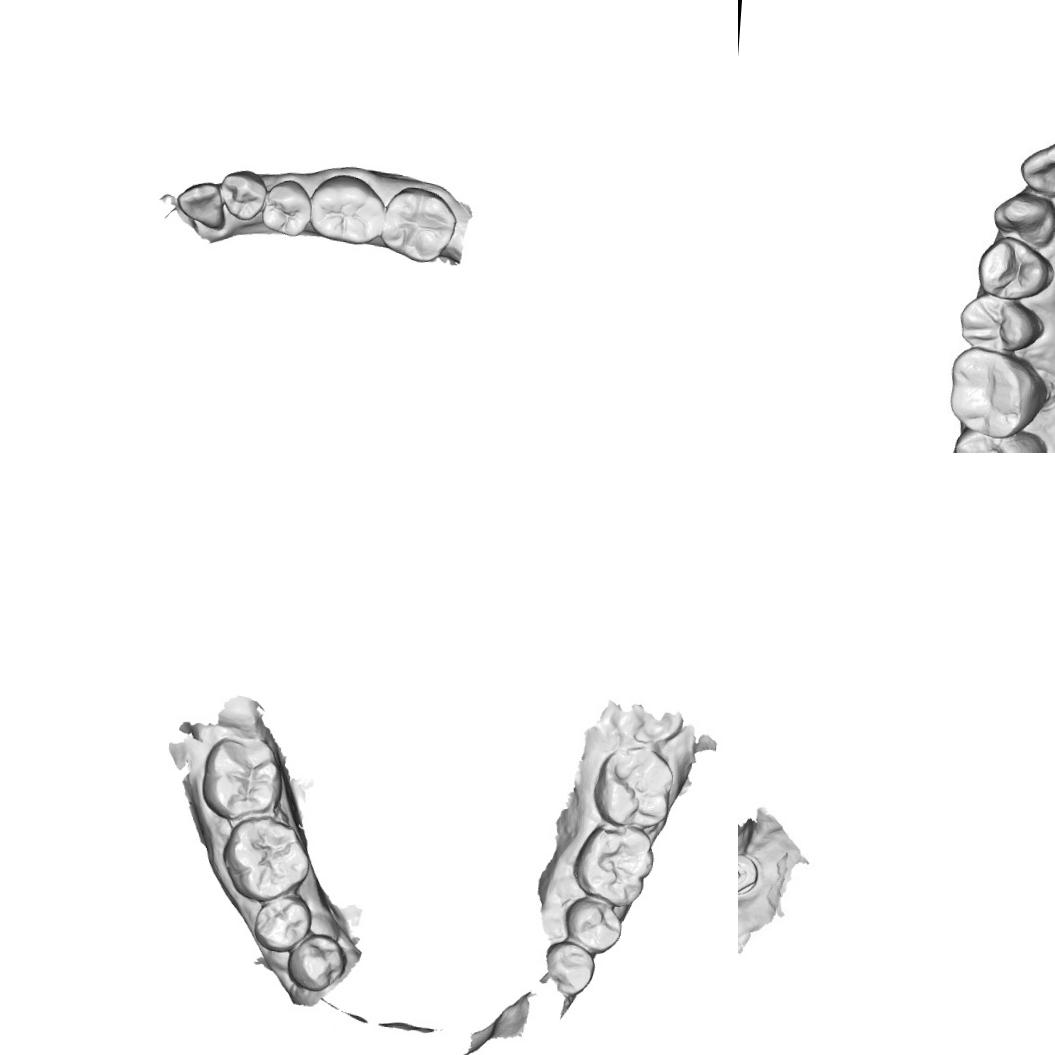canine: (990, 190, 1055, 250), (174, 180, 228, 230)
implant_minus: (738, 851, 761, 895)
incisor: (1013, 138, 1055, 205)
molar: (944, 346, 1055, 439), (224, 815, 317, 904), (589, 742, 677, 834), (200, 734, 286, 822), (570, 824, 654, 902), (379, 183, 458, 265), (306, 172, 388, 247), (948, 425, 1052, 453)
premolar: (958, 290, 1048, 361), (974, 235, 1055, 302), (251, 890, 314, 952), (560, 892, 623, 954), (285, 929, 344, 994), (542, 935, 596, 997), (260, 178, 313, 238), (216, 167, 268, 223)
